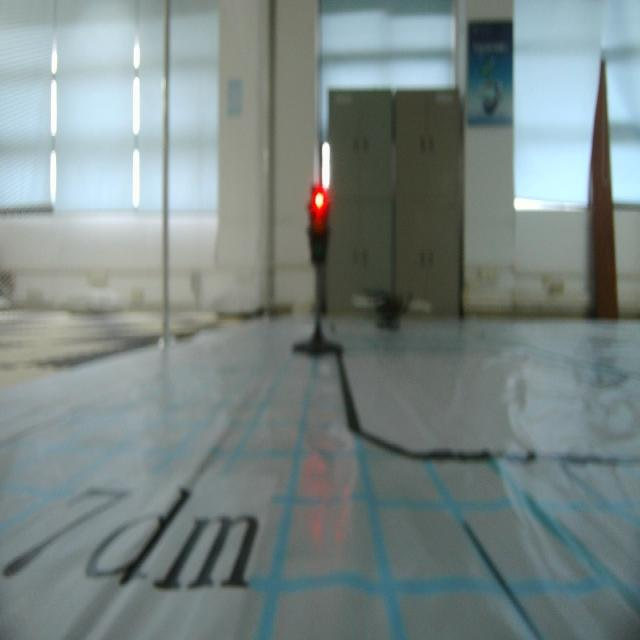red: (305, 181, 334, 270)
